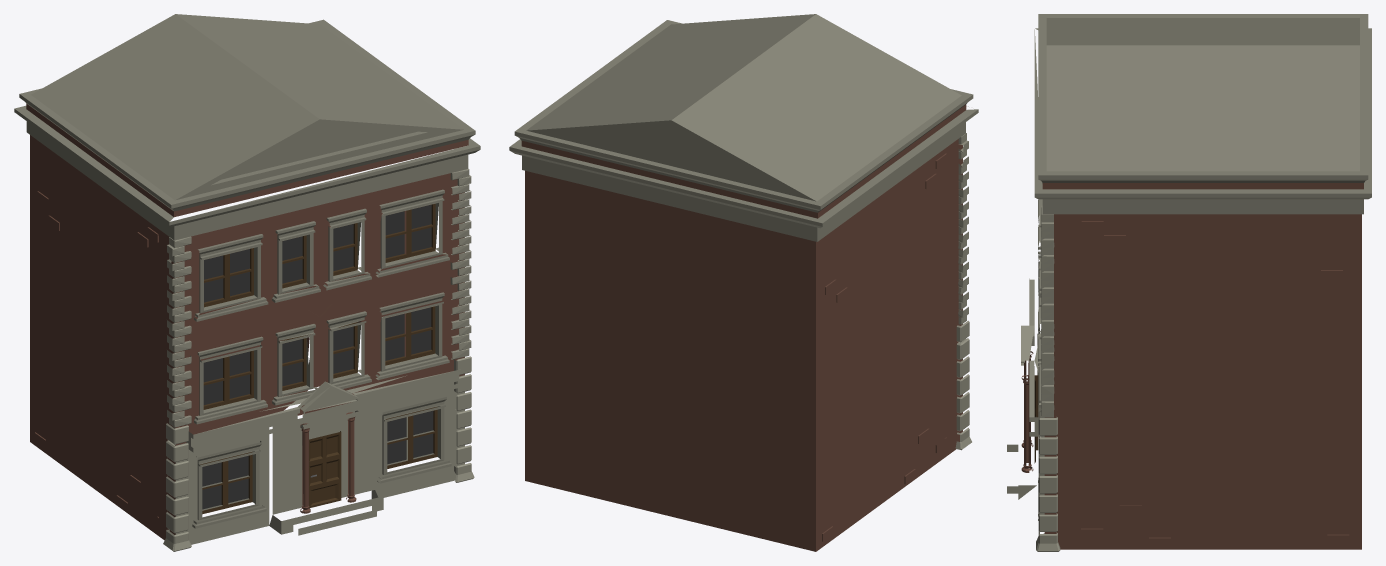
The model's file is city-brick.glb.
3 views of the same model, side by side, from view 1: azimuth 30°, elevation 25°; view 2: azimuth 150°, elevation 25°; view 3: azimuth 270°, elevation 25° (orthographic). The views are drawn at different scales.
Visible parts, largest first — view 1: Building3_Big_Cube.001; view 2: Building3_Big_Cube.001; view 3: Building3_Big_Cube.001.
Part boxes in pixels (box(x1,y1,x2,y2)): Building3_Big_Cube.001: box(14, 14, 480, 551); Building3_Big_Cube.001: box(509, 14, 978, 551); Building3_Big_Cube.001: box(1007, 14, 1371, 551).
Bounding box in the file's own units: 10.35 × 12.49 × 9.66.
